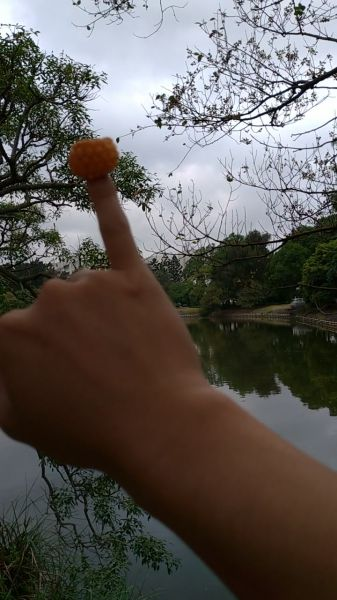eggs: (67, 137, 120, 178)
